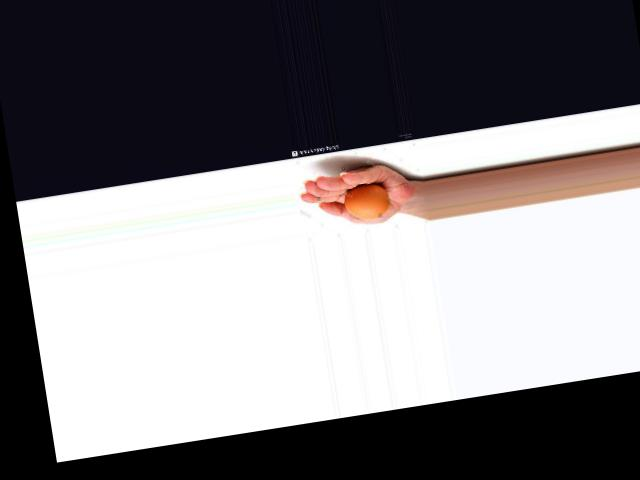egg: (343, 180, 392, 222)
